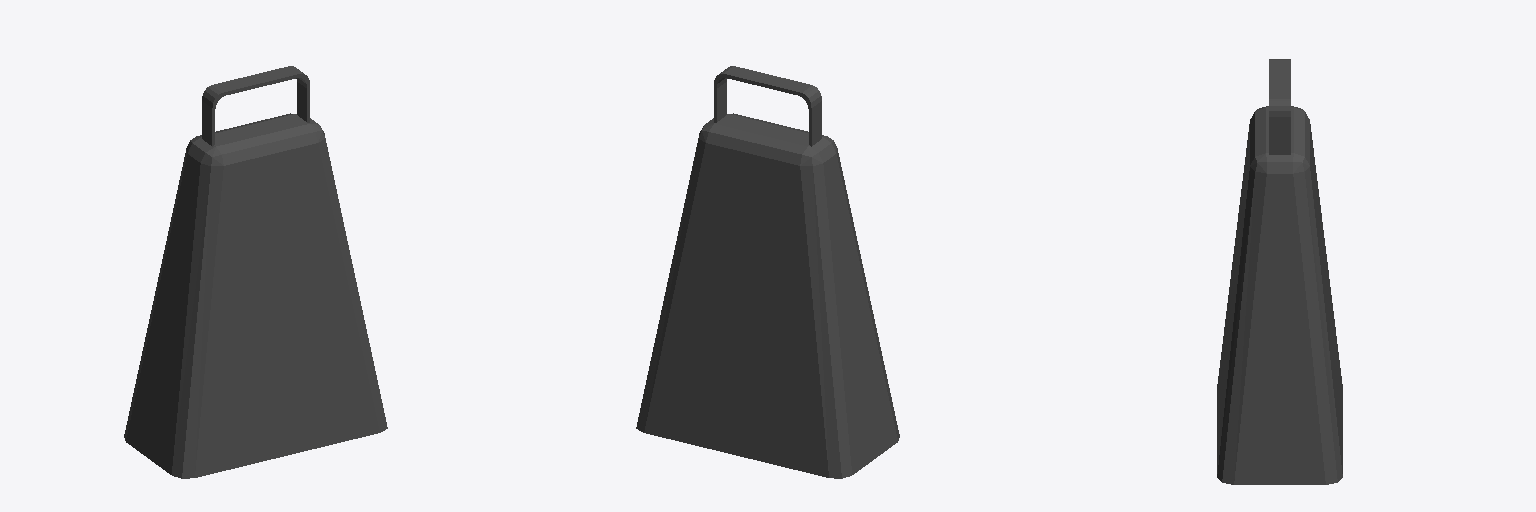
File: Cowbell.obj
3 views of the same model, side by side, from view 1: azimuth 30°, elevation 25°; view 2: azimuth 150°, elevation 25°; view 3: azimuth 270°, elevation 25° (orthographic).
Parts seen in each view (by area): view 1: Cowbell_Q; view 2: Cowbell_Q; view 3: Cowbell_Q.
Boxes of the visible parts, box(x1,y1,x2,y2) form: Cowbell_Q: box(124, 66, 387, 478); Cowbell_Q: box(636, 66, 899, 478); Cowbell_Q: box(1217, 59, 1342, 484).
Size of the model in its own units: 0.1045 by 0.1642 by 0.053.